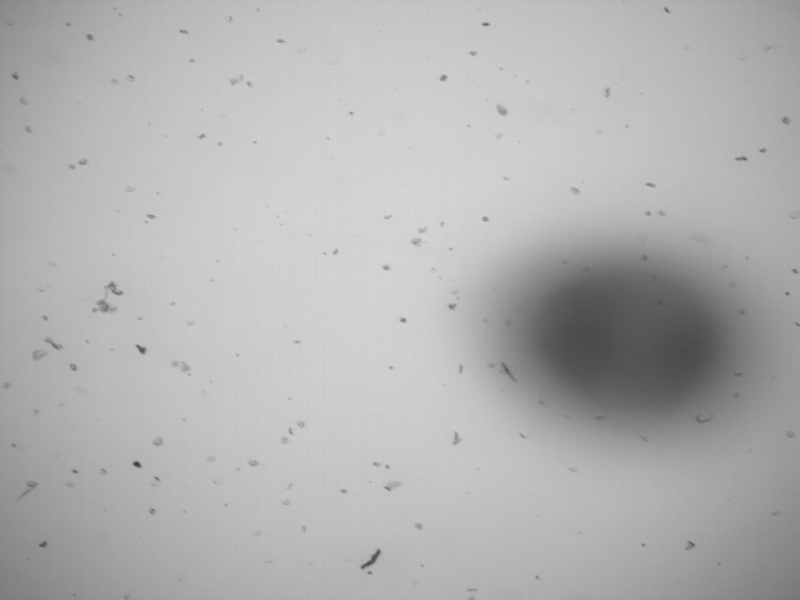bead: (530, 252, 727, 411)
